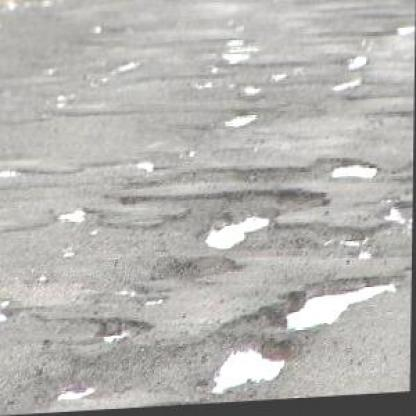pothole: (254, 273, 402, 337), (212, 337, 296, 401), (204, 212, 272, 254), (312, 155, 381, 188), (233, 162, 312, 189), (93, 313, 159, 344), (270, 191, 330, 222)
